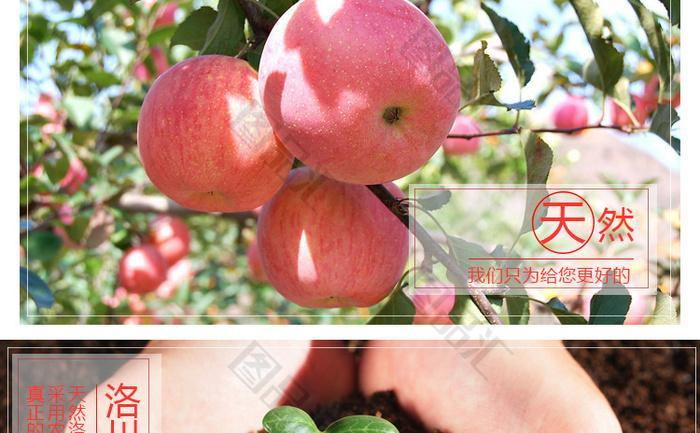apple: (259, 1, 461, 185), (135, 55, 299, 213), (255, 166, 414, 310)
